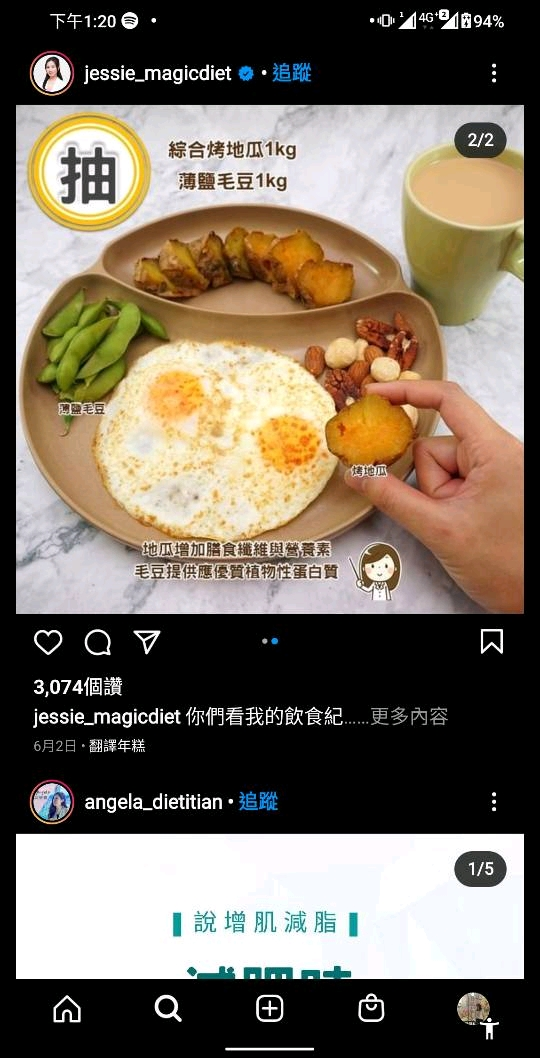border_options: (474, 53, 513, 90), (482, 780, 506, 816)
icon_bookmark: (469, 618, 513, 661)
icon_nav: (41, 986, 191, 1028)
